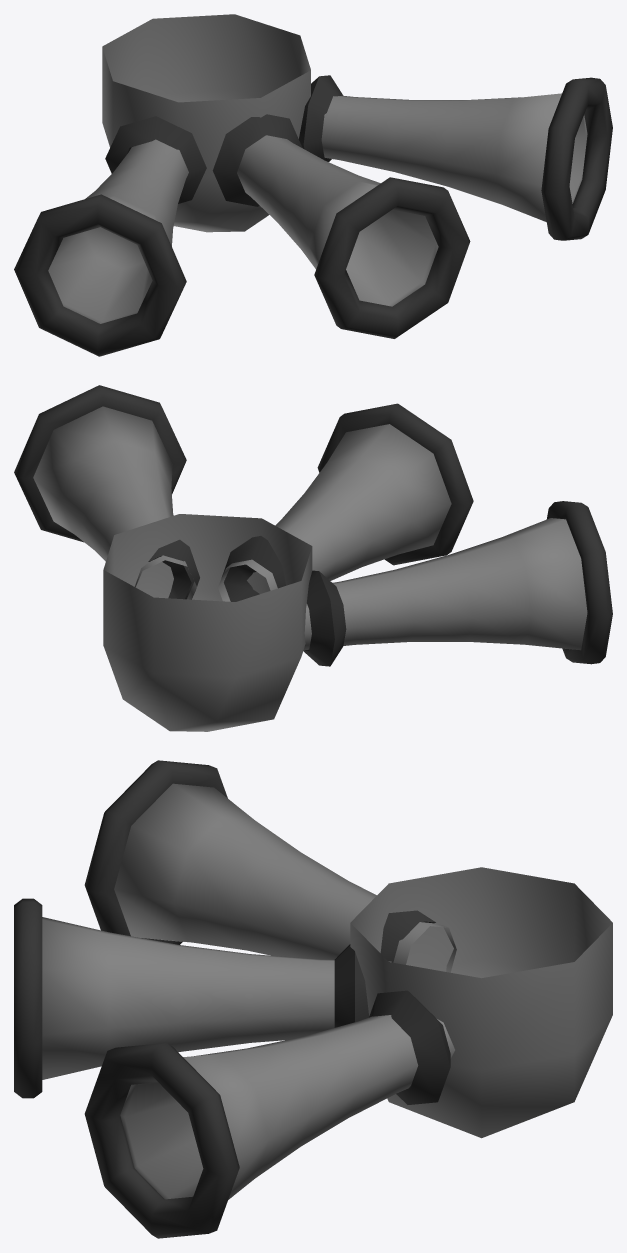
Rendered from Turret_04_H.fbx.
The picture shows the model from 3 angles, top to bottom: view 1: azimuth 30°, elevation 25°; view 2: azimuth 150°, elevation 25°; view 3: azimuth 270°, elevation 25°; orthographic projection. The views are drawn at different scales.
Parts seen in each view (by area): view 1: 004; view 2: 004; view 3: 004.
Part boxes in pixels (x1,y1,x2,y2): 004: (14, 14, 612, 356); 004: (14, 385, 612, 731); 004: (14, 760, 612, 1238).
Bounding box in the file's own units: 47.53 × 14.53 × 34.13.
1 material, 1 textured.
